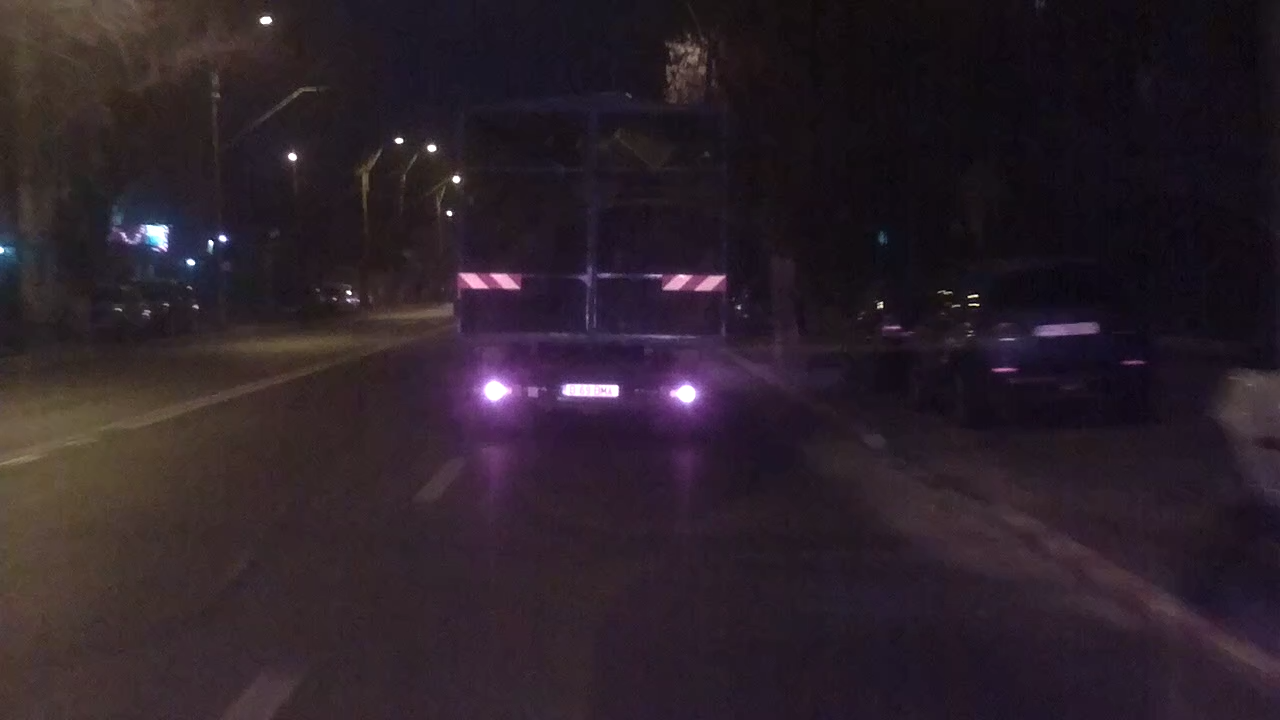license-plate: (556, 380, 623, 399)
